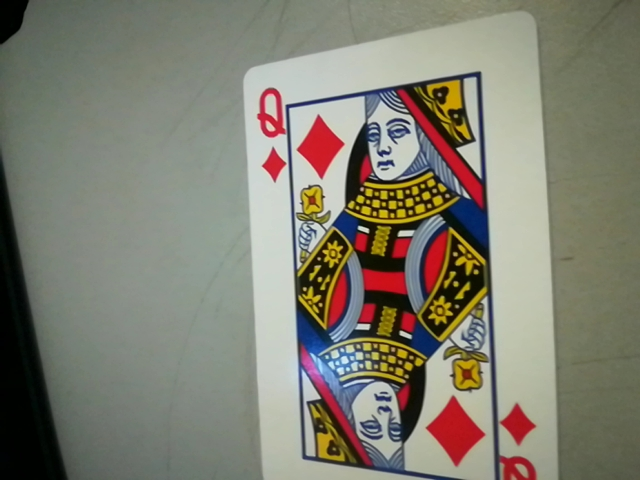fk q: (489, 402, 554, 480)
